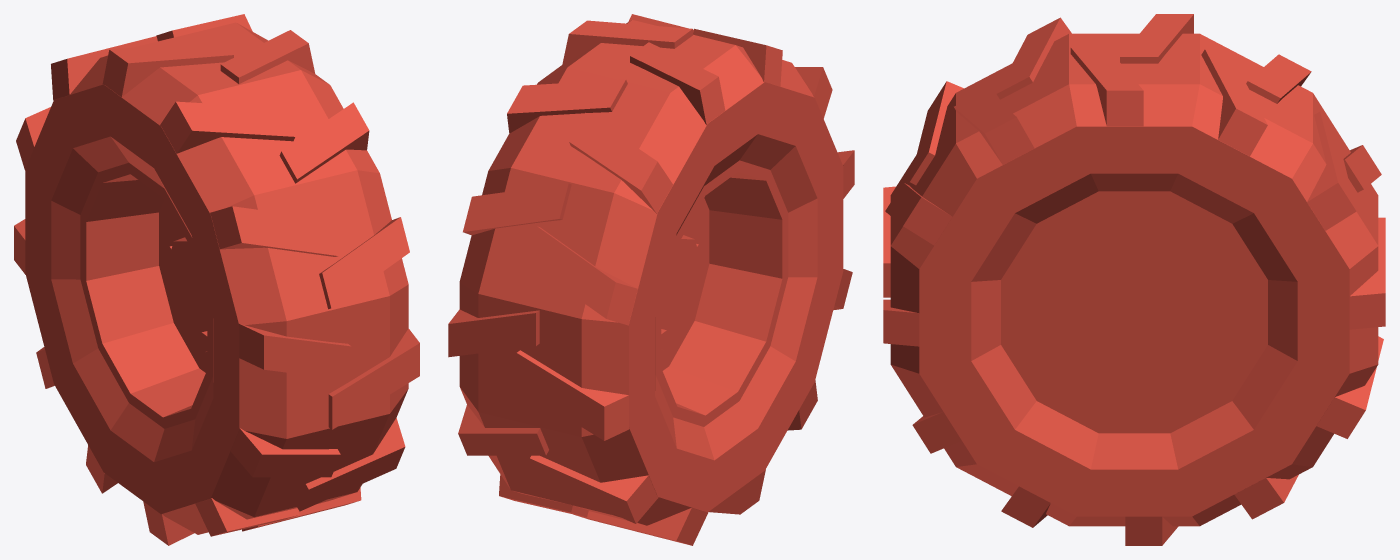
File: SM_Telehandler_Wheel_FR.fbx
3 views of the same model, side by side, from view 1: azimuth 30°, elevation 25°; view 2: azimuth 150°, elevation 25°; view 3: azimuth 270°, elevation 25° (orthographic).
Parts seen in each view (by area): view 1: SM_Telehandler_Wheel_FR; view 2: SM_Telehandler_Wheel_FR; view 3: SM_Telehandler_Wheel_FR.
Part boxes in pixels (<box>): SM_Telehandler_Wheel_FR: <box>14,14,419,545</box>; SM_Telehandler_Wheel_FR: <box>448,14,854,545</box>; SM_Telehandler_Wheel_FR: <box>883,14,1385,545</box>.
Bounding box in the file's own units: 112 × 43.95 × 112.
